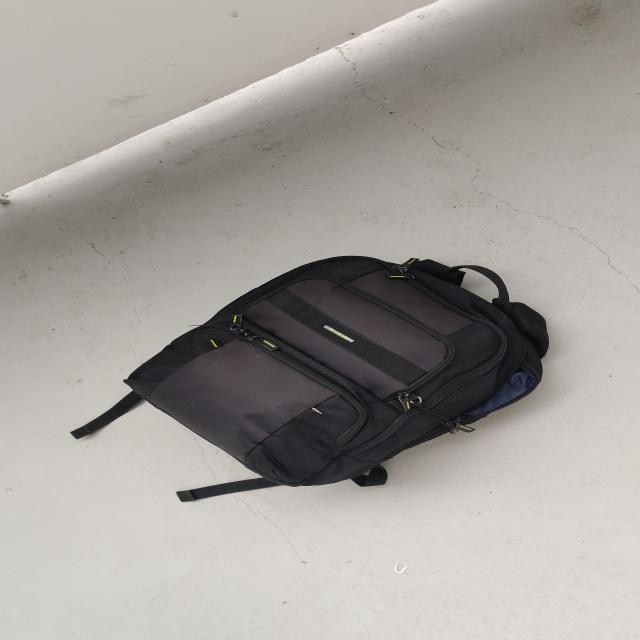backpack: (117, 248, 564, 496)
